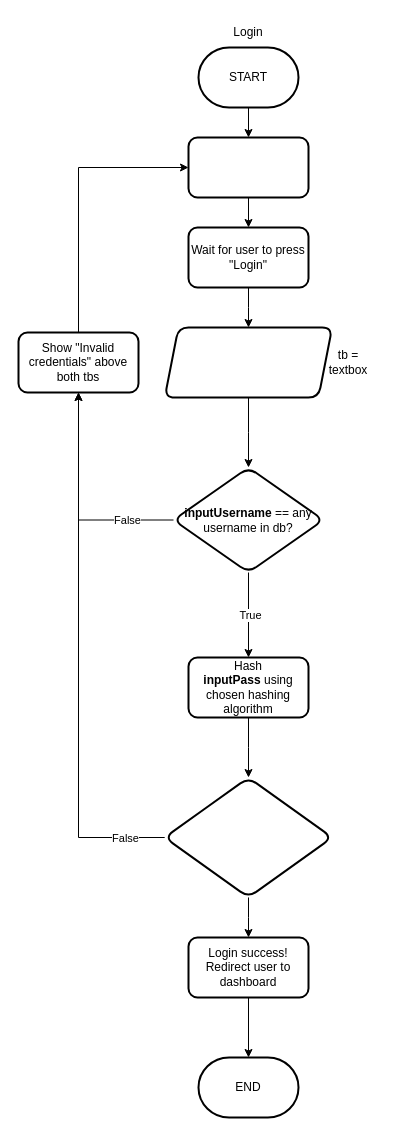
This 395x1135 diagram has some shape labels left out. The shapes that lost their labels are listed below. From the top down, each one's centre as x and y in pixels, then its label:
At pixel 248 167: "Show login screen to user".
At pixel 248 362: "inputUsername = username tb inputPass = pass tb".
At pixel 248 837: "inputPass == hashed password in same db entry as username?".
